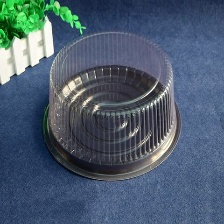plastic_box: (32, 21, 187, 187)
